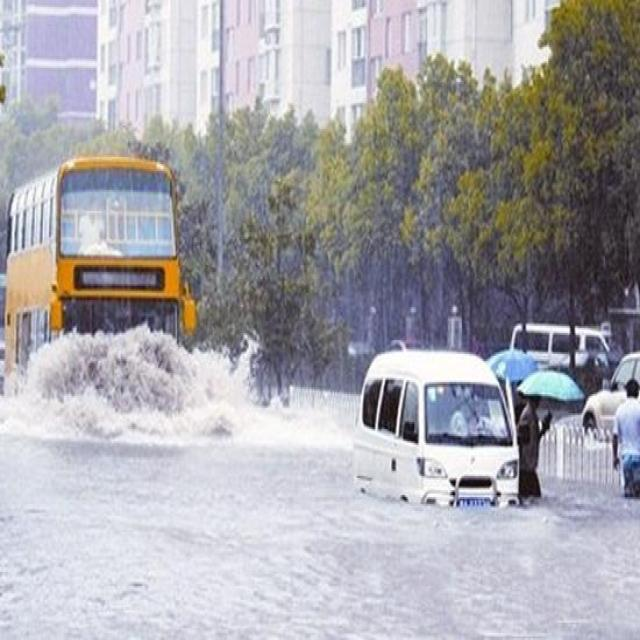car: (354, 350, 520, 502), (580, 347, 636, 436), (506, 321, 608, 368)
